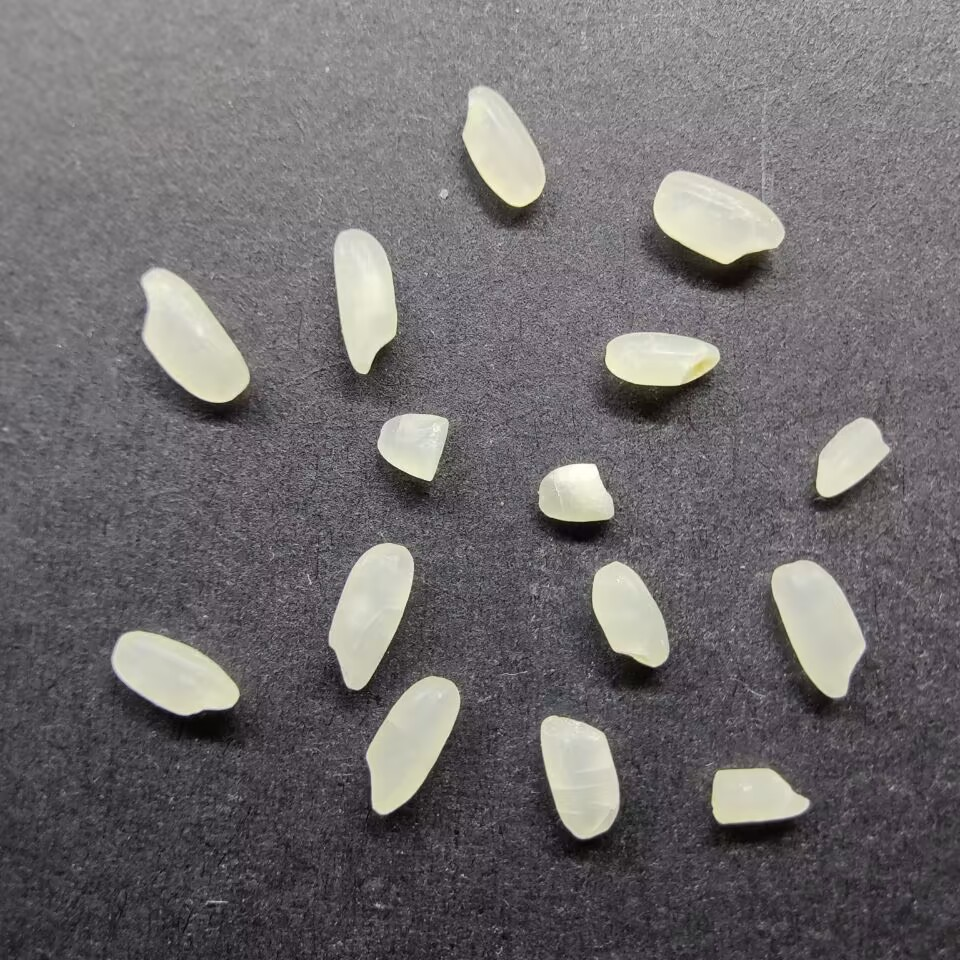broken: (814, 416, 892, 501), (709, 765, 811, 827), (374, 410, 451, 483), (536, 460, 616, 525)
rice: (135, 264, 252, 404), (769, 560, 870, 699), (364, 674, 460, 818), (326, 541, 416, 693), (650, 169, 785, 265), (109, 629, 240, 716), (460, 84, 548, 209), (539, 713, 622, 841), (330, 227, 399, 378), (590, 560, 671, 669), (602, 330, 722, 388)
